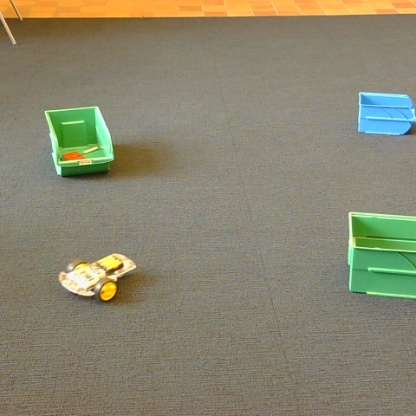robot: (59, 253, 135, 301)
